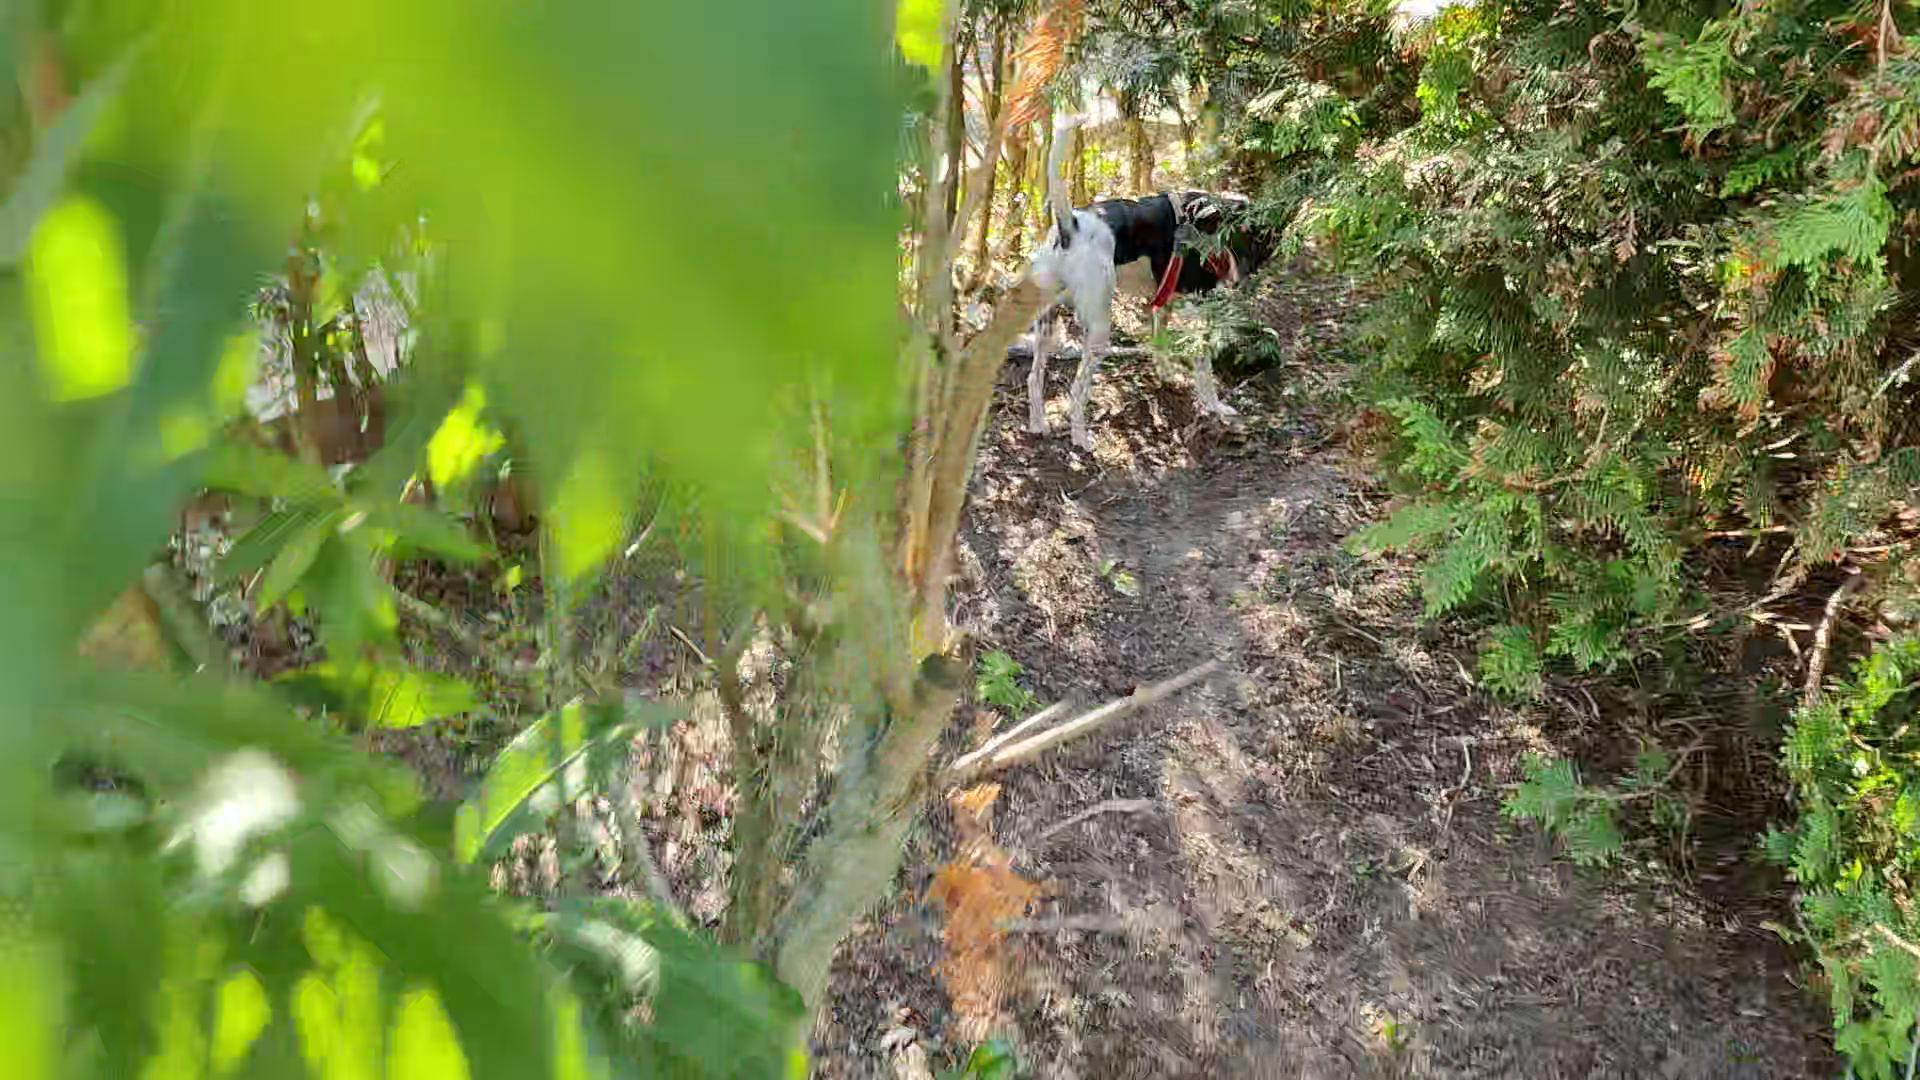Dog: (992, 82, 1308, 462)
